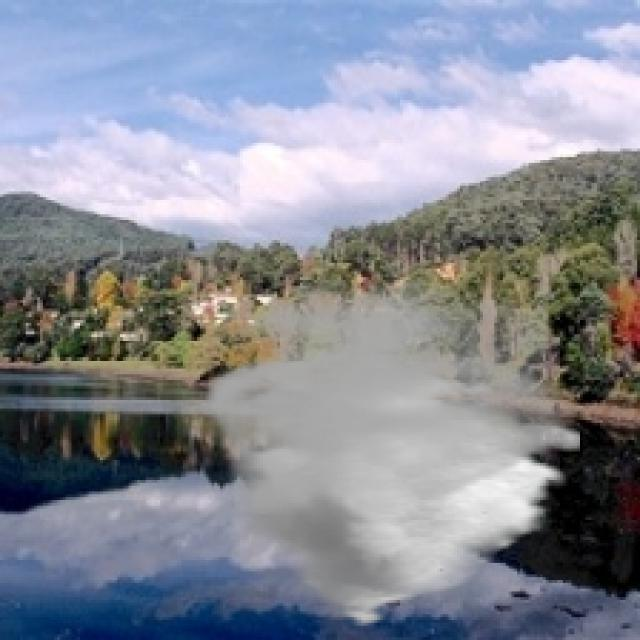Smoke: (197, 277, 580, 629)
